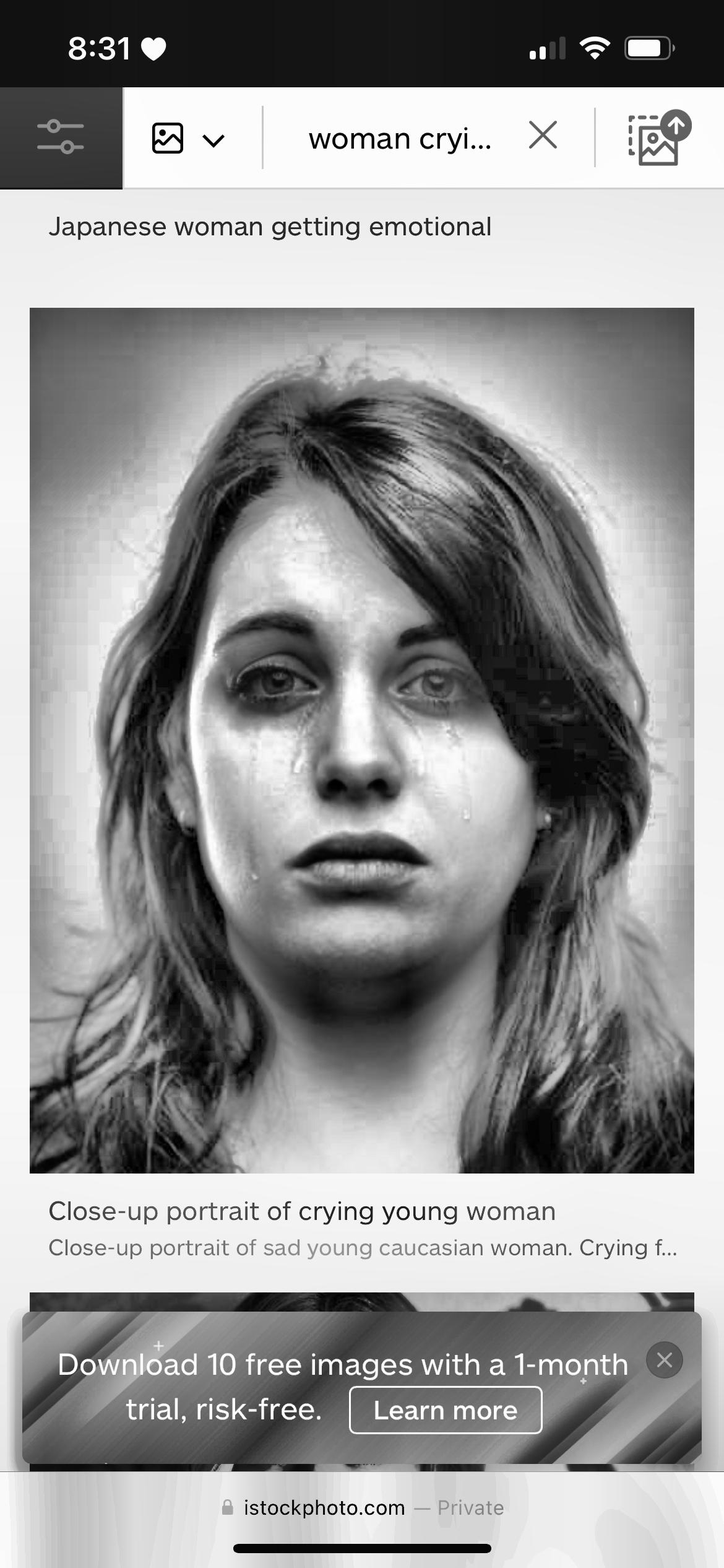sad: (110, 485, 613, 1026)
